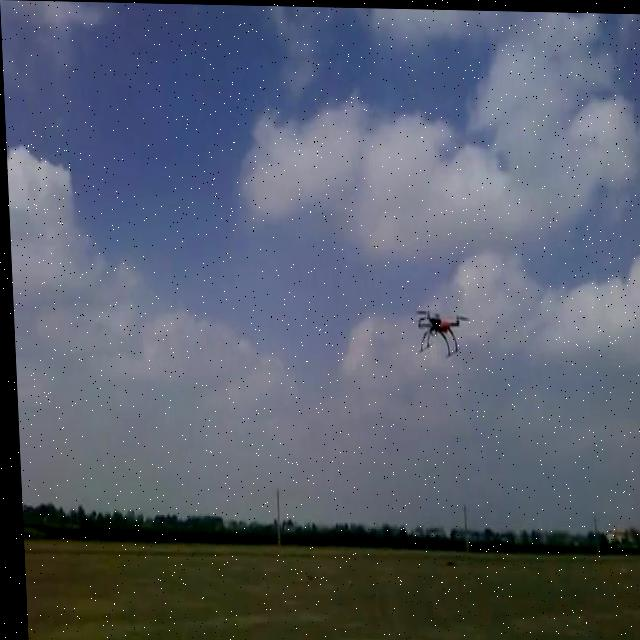drone: (414, 304, 465, 355)
